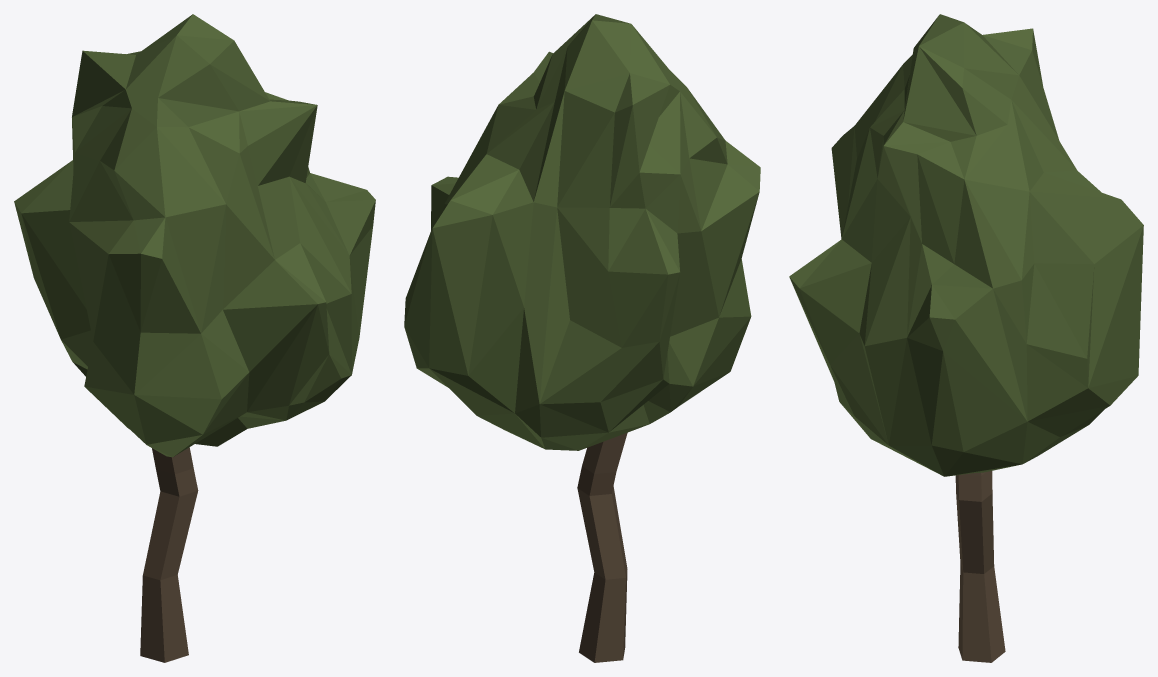
The model's file is tree_084.fbx.
3 renders of one model, left to right at view 1: azimuth 30°, elevation 25°; view 2: azimuth 150°, elevation 25°; view 3: azimuth 270°, elevation 25°, orthographic. The views are drawn at different scales.
Parts seen in each view (by area): view 1: tree_084; view 2: tree_084; view 3: tree_084.
Part boxes in pixels (x1=…): tree_084: x1=14, y1=14, x2=375, y2=662; tree_084: x1=404, y1=14, x2=760, y2=662; tree_084: x1=789, y1=14, x2=1143, y2=662.
Size of the model in its own units: 0.9082 by 1.84 by 0.9257.
Materials: 1 (1 with a texture image).
